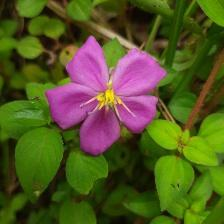malabar melastome: (45, 33, 168, 157)
